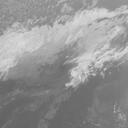cyclone: (64, 62, 92, 89)
